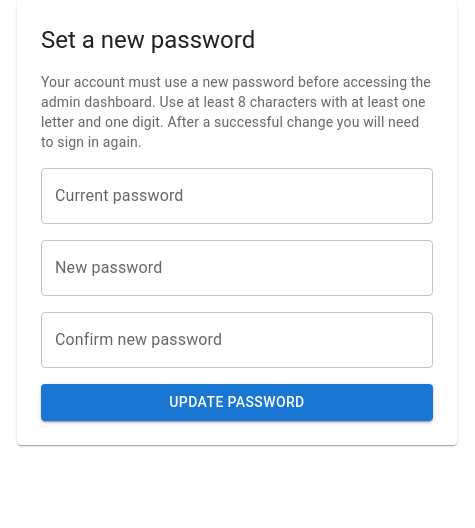
Test: AdminChangePasswordPage › shows a validation error when any field is missing
Step 1. Click the button "Update password" → (237, 402), box [41,384,433,421]
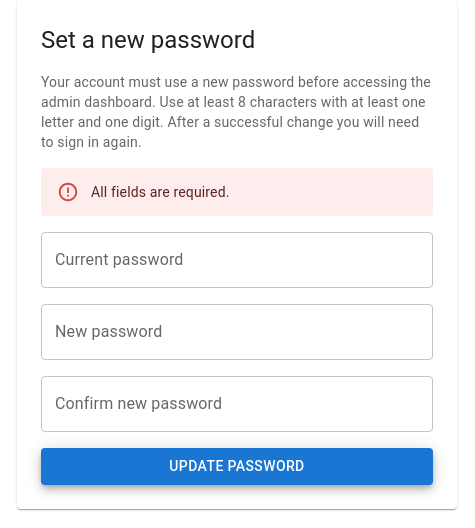
expect the text "All fields are required." is shown: met, box [91,184,230,200]
